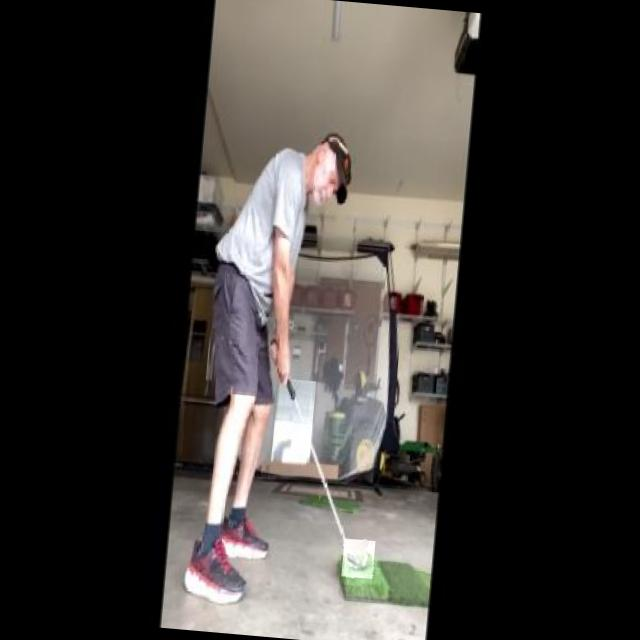club head: (341, 538, 375, 578)
